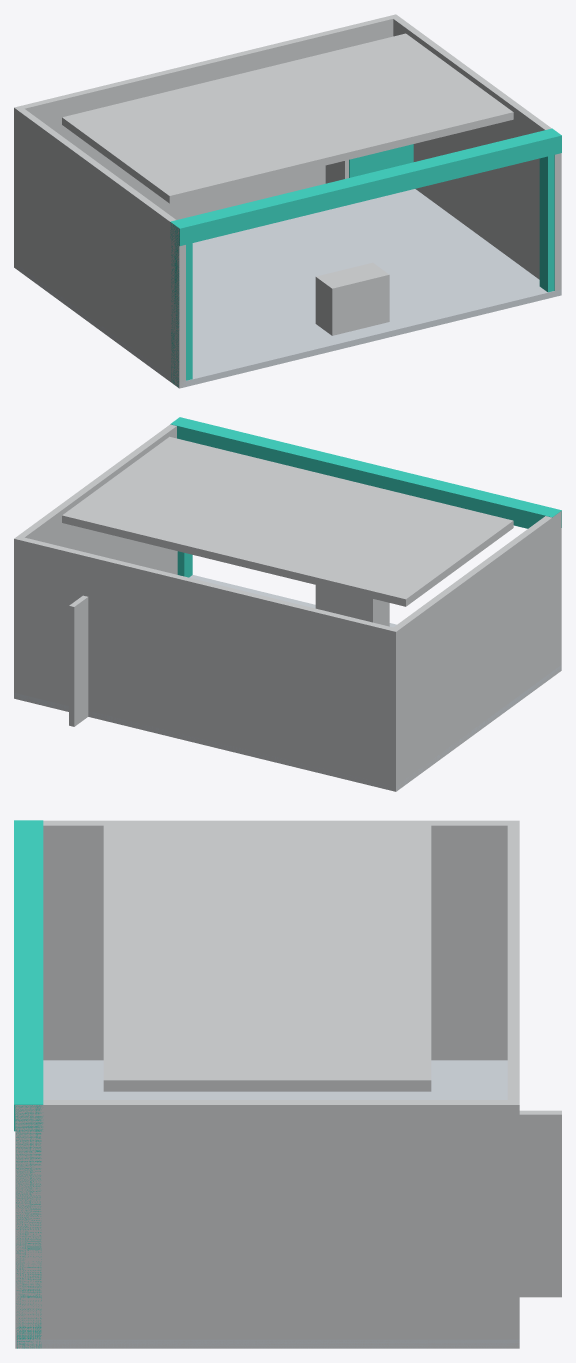
The picture shows the model from 3 angles, top to bottom: view 1: azimuth 30°, elevation 25°; view 2: azimuth 150°, elevation 25°; view 3: azimuth 270°, elevation 25°; orthographic projection. The views are drawn at different scales.
Parts seen in each view (by area): view 1: Exhibition Booth Concept; view 2: Exhibition Booth Concept; view 3: Exhibition Booth Concept.
Part boxes in pixels (x1,y1,x2,y2): Exhibition Booth Concept: [14, 14, 561, 388]; Exhibition Booth Concept: [14, 417, 561, 791]; Exhibition Booth Concept: [14, 820, 561, 1348].
Bounding box in the file's own units: 8 × 3.34 × 6.52.
